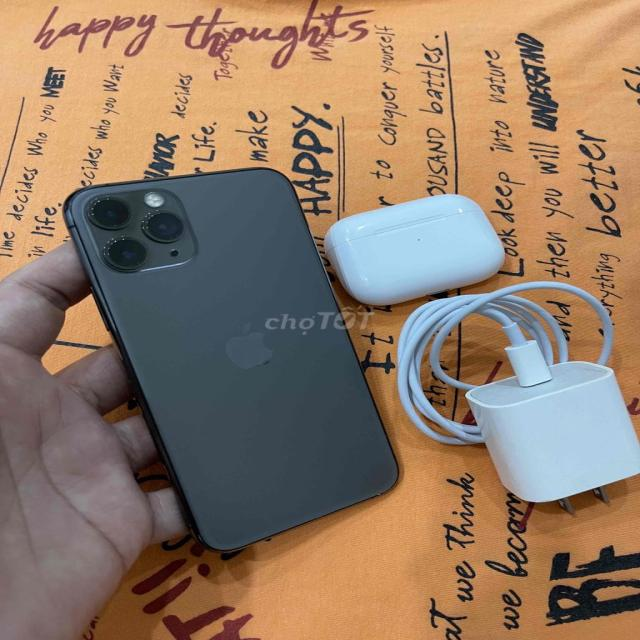gen_11: (57, 167, 400, 556)
